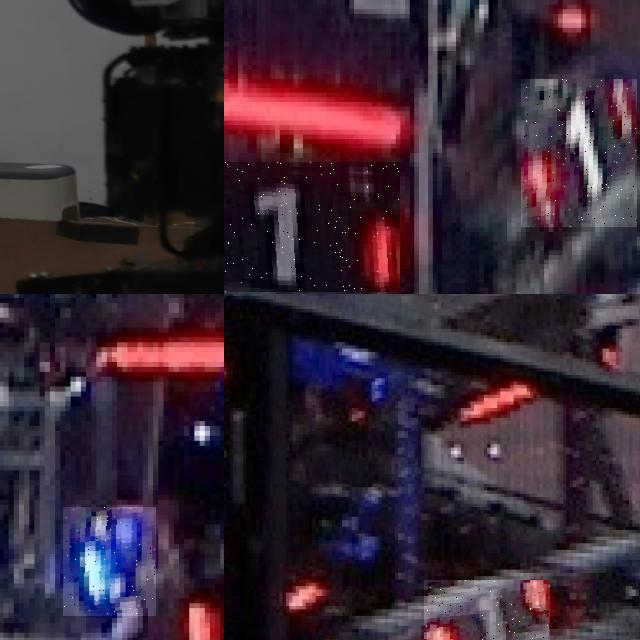B2: (63, 507, 156, 616)
R1: (224, 162, 400, 292), (521, 79, 637, 227), (424, 579, 549, 640)
